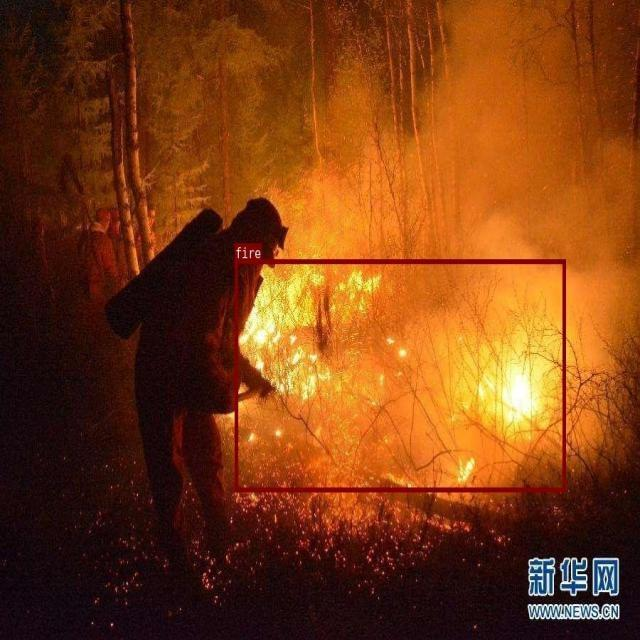fire: (235, 259, 566, 491)
